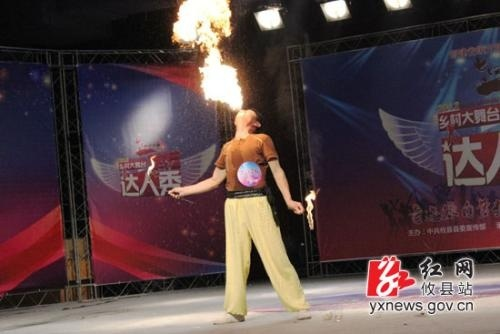fire: (170, 0, 245, 111)
